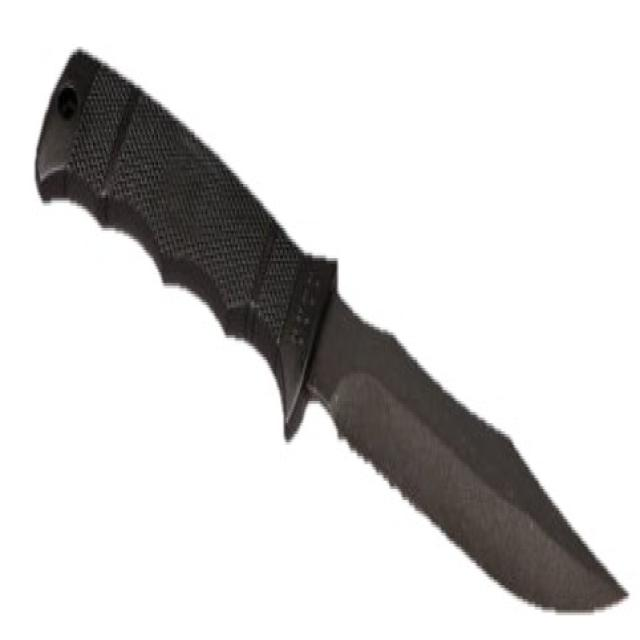knife: (31, 44, 631, 627)
